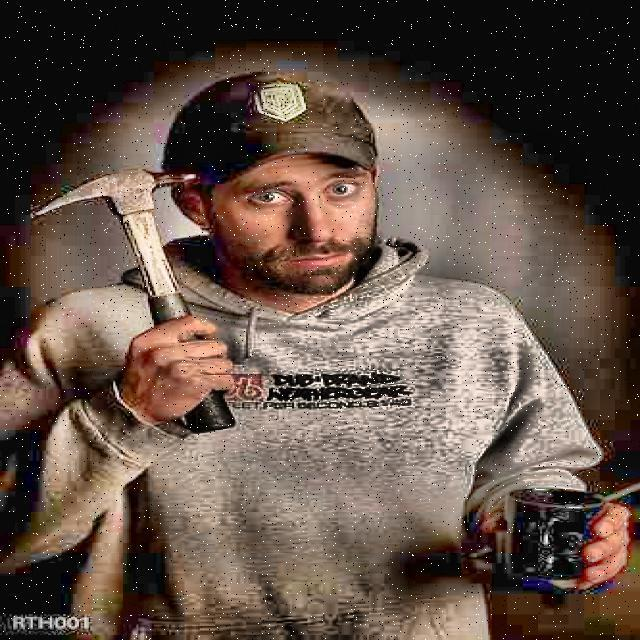hammer: (39, 167, 257, 431)
